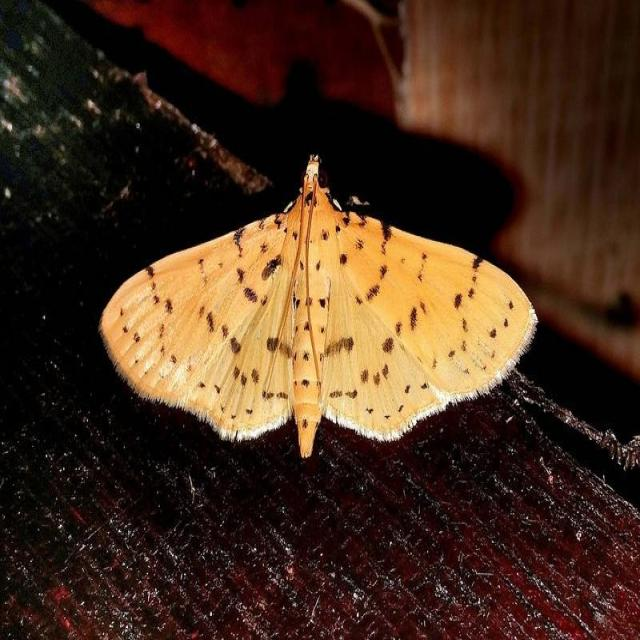peach borer: (97, 151, 544, 458)
